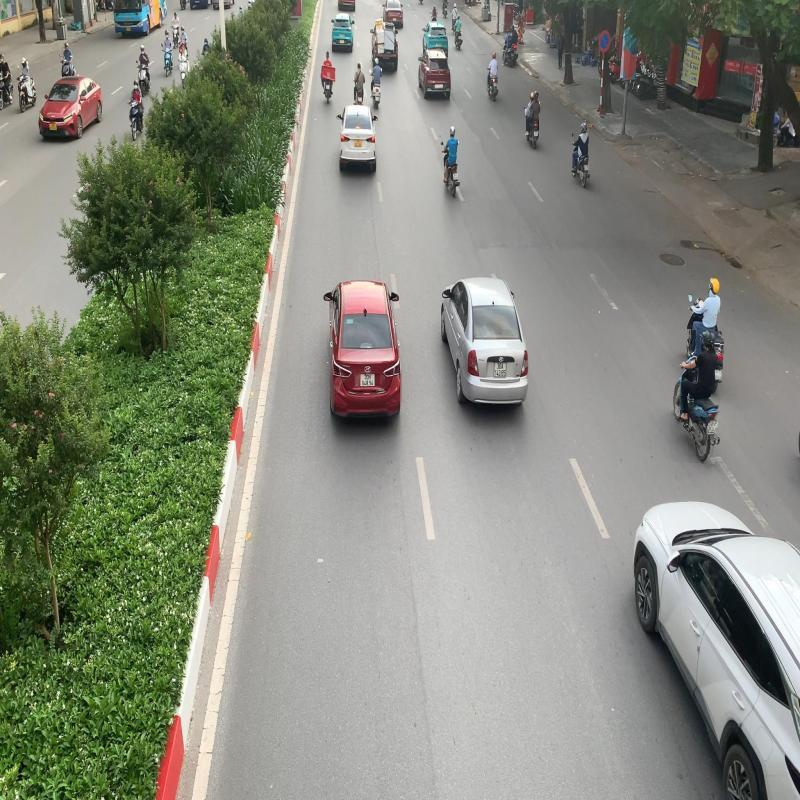helmet: (699, 329, 712, 349)
licenseplate: (709, 420, 720, 434)
motorcyclist: (670, 329, 724, 464)
